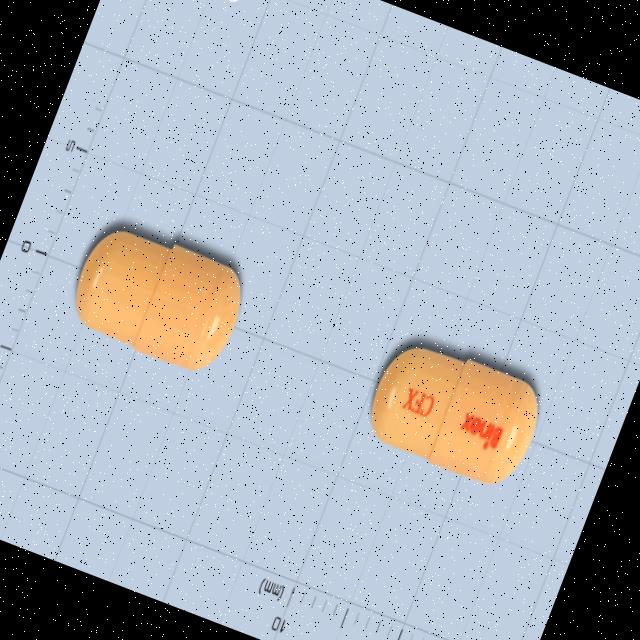Cefixime Cap: (55, 205, 260, 388), (354, 323, 556, 498)
